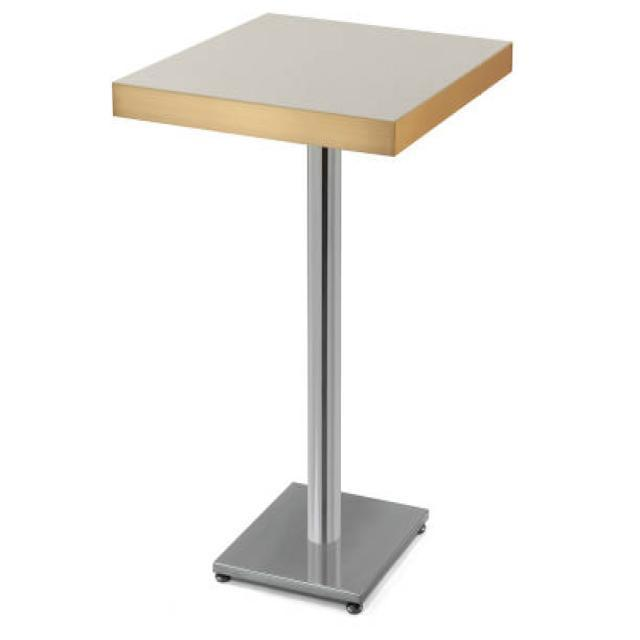table: (110, 9, 514, 614)
